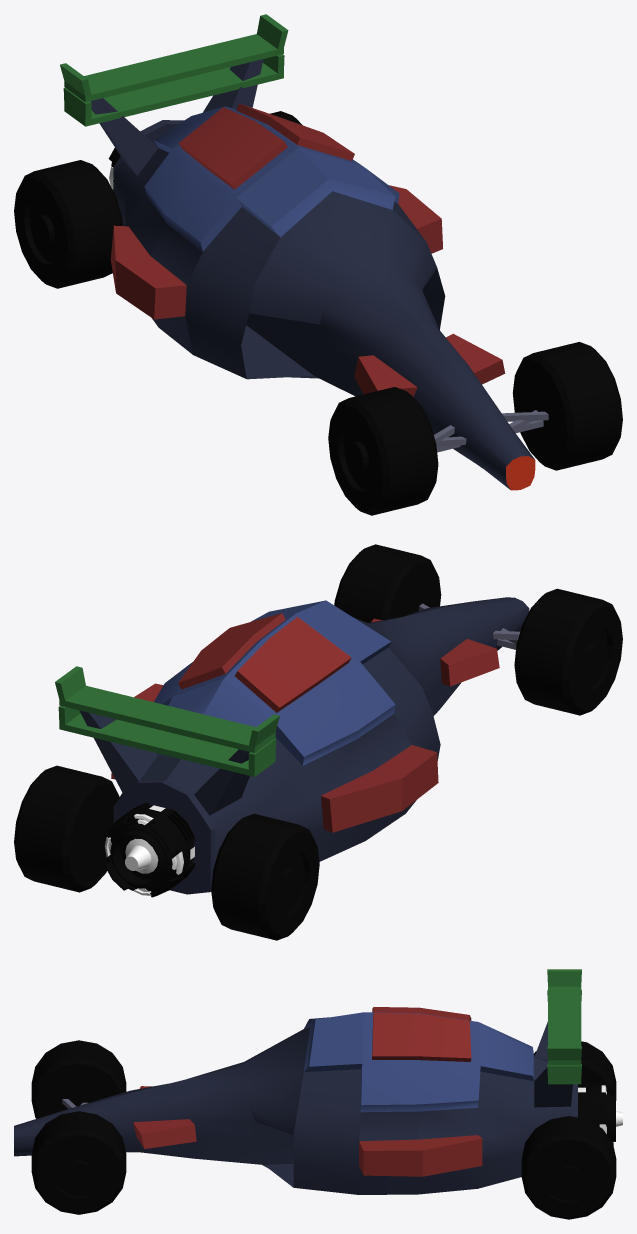
The picture shows the model from 3 angles, top to bottom: view 1: azimuth 30°, elevation 25°; view 2: azimuth 150°, elevation 25°; view 3: azimuth 270°, elevation 25°; orthographic projection. The views are drawn at different scales.
Visible parts, largest first — view 1: polySurface29, polySurface28, front right tyre.003, Cube, back right tyre.003, front left tyre.004; view 2: polySurface29, Cube, front right tyre.003, back right tyre.003, back left tyre.003, thruster4, front left tyre.004, polySurface28; view 3: polySurface29, back left tyre.003, front left tyre.004, front right tyre.003, polySurface28, Cube, thruster4, back right tyre.003.
Boxes of the visible parts, bbox=[...] form: polySurface29: bbox=[90, 59, 548, 490]; polySurface28: bbox=[281, 191, 528, 459]; front right tyre.003: bbox=[328, 387, 438, 515]; Cube: bbox=[60, 14, 288, 126]; back right tyre.003: bbox=[14, 160, 122, 288]; front left tyre.004: bbox=[512, 342, 622, 470]; polySurface29: bbox=[79, 600, 529, 894]; Cube: bbox=[55, 666, 279, 776]; front right tyre.003: bbox=[514, 588, 622, 715]; back right tyre.003: bbox=[211, 813, 319, 940]; back left tyre.003: bbox=[14, 765, 119, 892]; thruster4: bbox=[104, 803, 195, 897]; front left tyre.004: bbox=[334, 544, 441, 622]; polySurface28: bbox=[353, 597, 522, 646]; polySurface29: bbox=[14, 1007, 577, 1194]; back left tyre.003: bbox=[521, 1116, 616, 1219]; front left tyre.004: bbox=[31, 1111, 126, 1214]; front right tyre.003: bbox=[31, 1040, 126, 1118]; polySurface28: bbox=[14, 1027, 310, 1131]; Cube: bbox=[547, 969, 581, 1084]; thruster4: bbox=[578, 1084, 622, 1145]; back right tyre.003: bbox=[534, 1041, 616, 1100].
Bounding box in the file's own units: 3.7 × 2.53 × 8.51.
